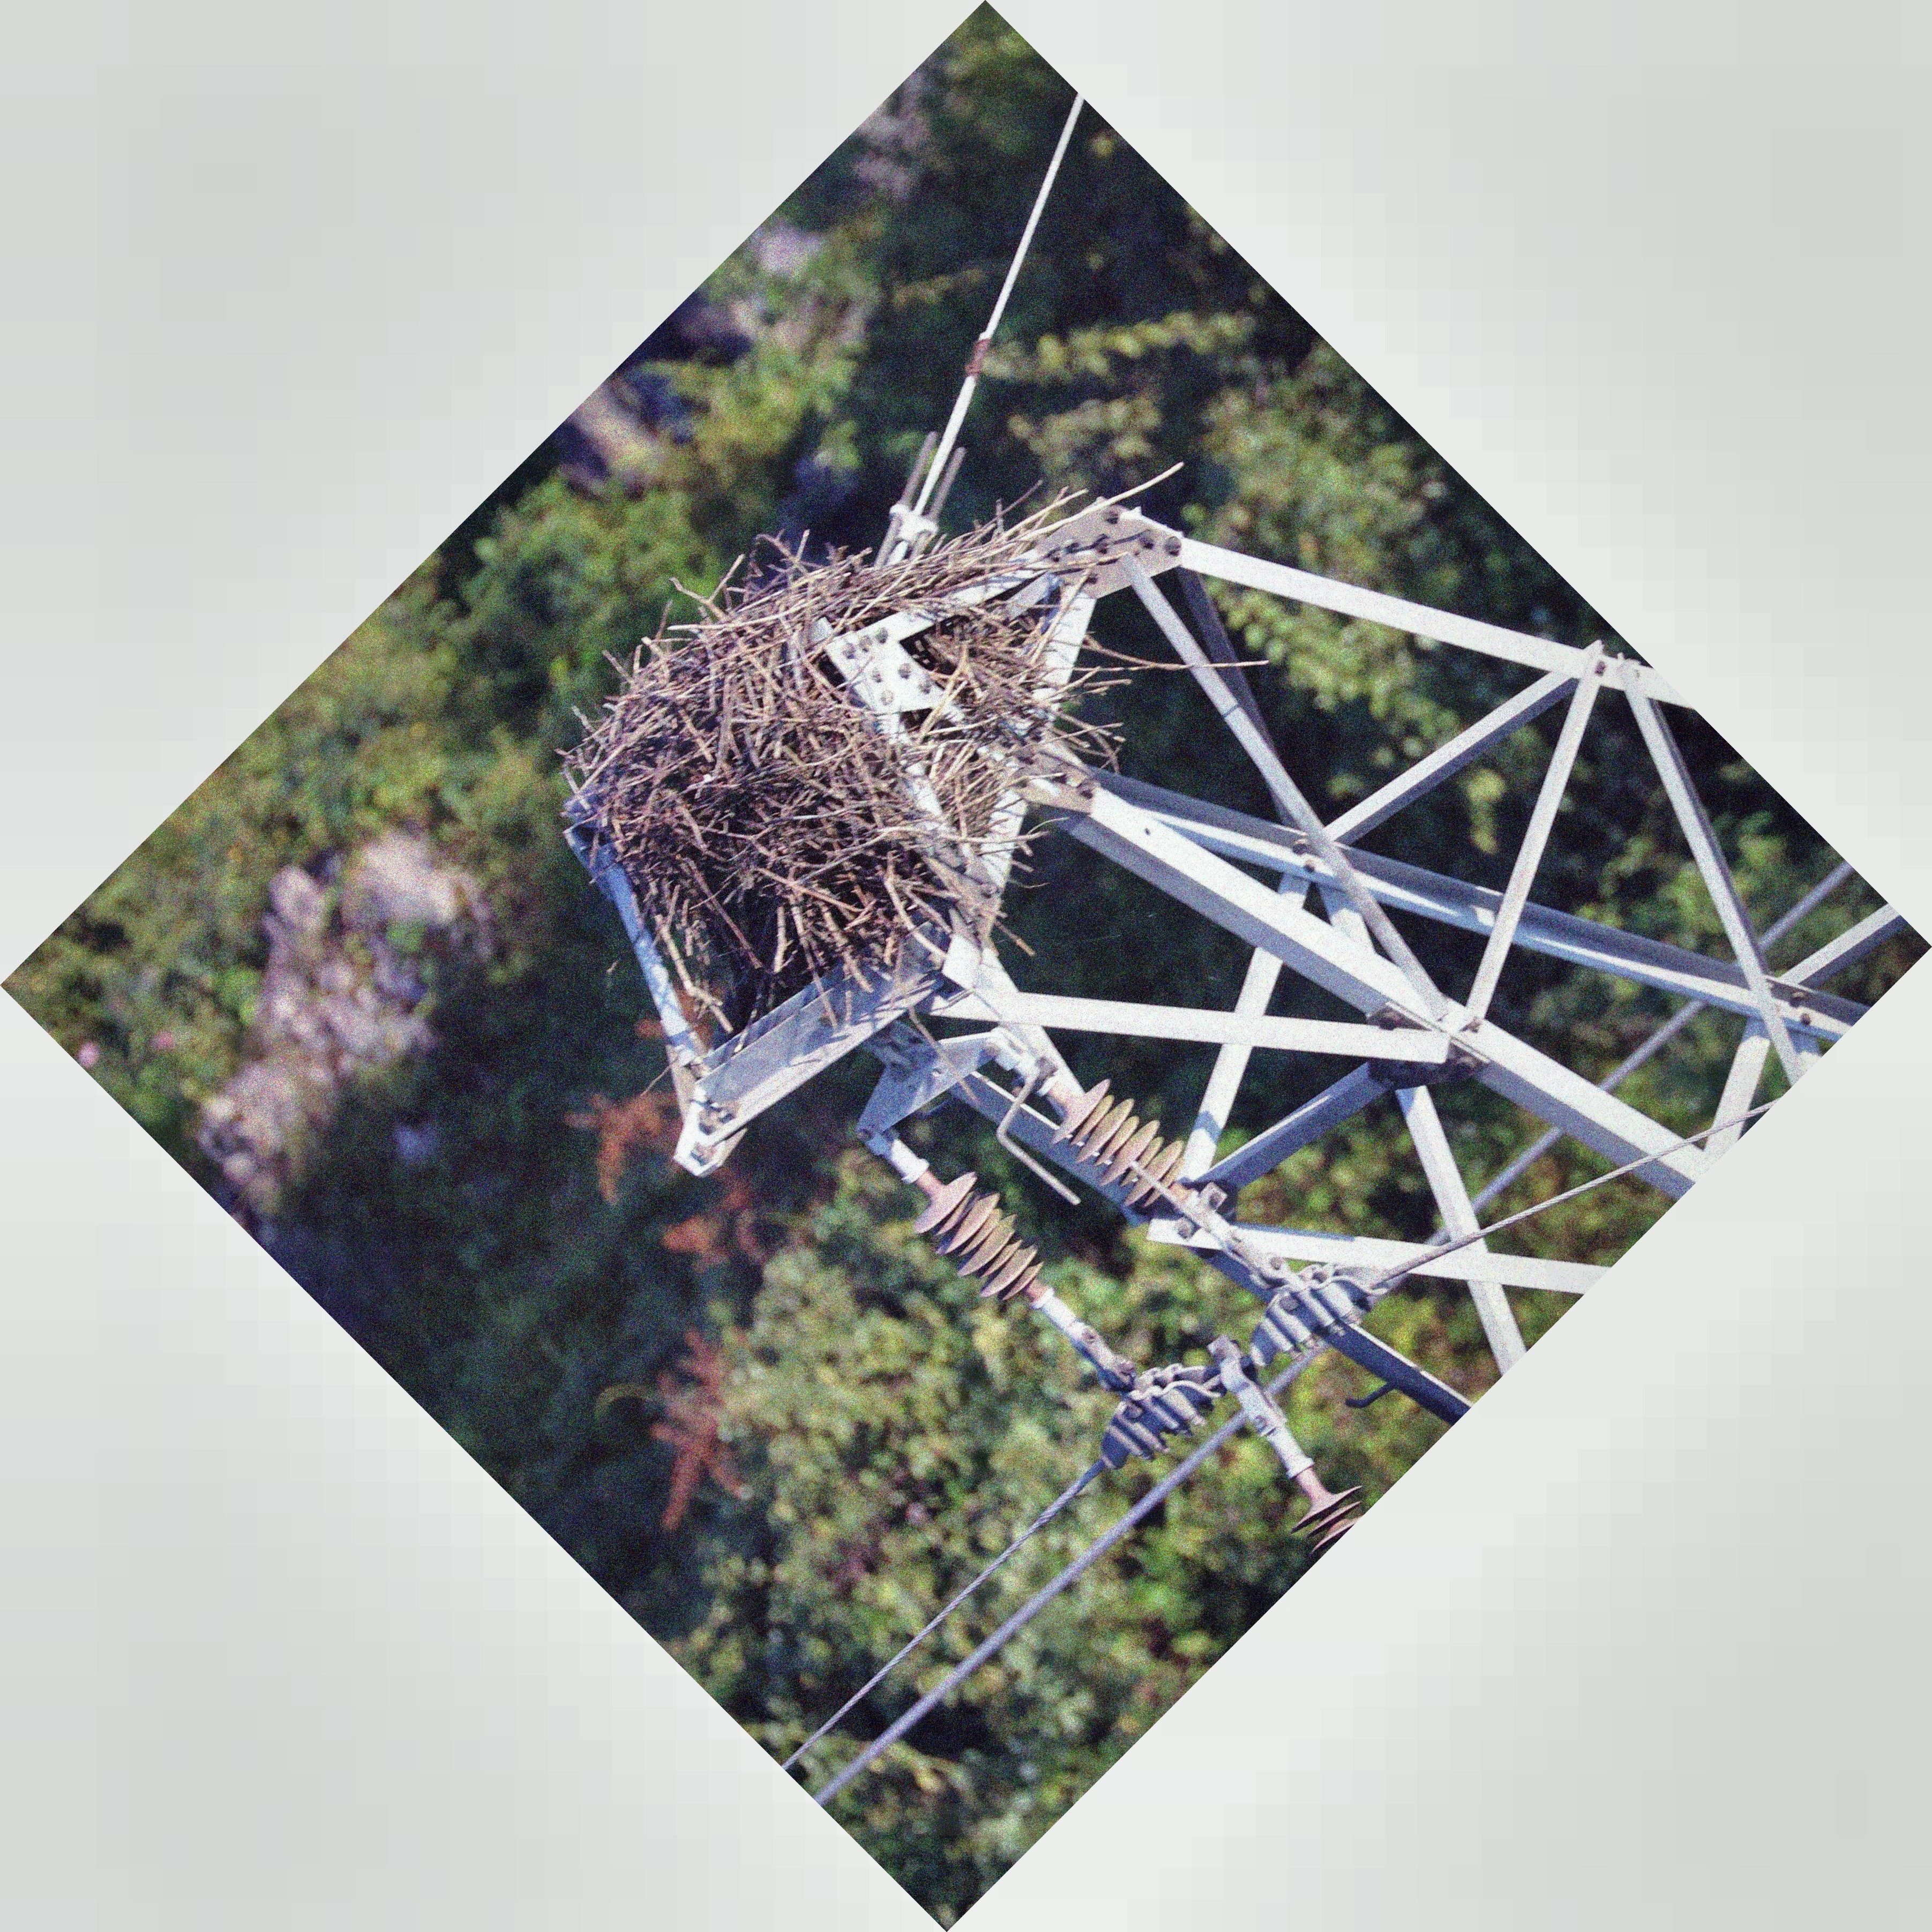niaowo: (511, 488, 1136, 1031)
